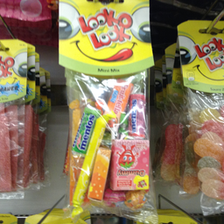candy: (59, 1, 150, 211), (178, 21, 224, 208), (1, 39, 37, 197)
